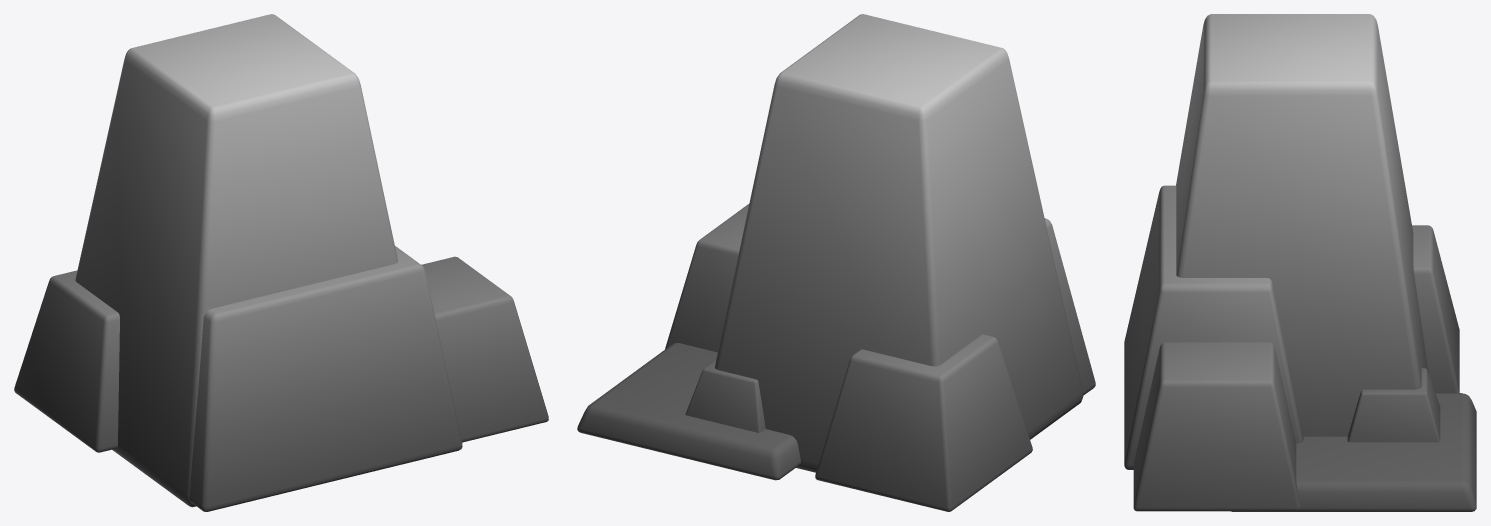
Rendered from pedras grandes.fbx.
3 renders of one model, left to right at view 1: azimuth 30°, elevation 25°; view 2: azimuth 150°, elevation 25°; view 3: azimuth 270°, elevation 25°, orthographic.
Visible parts, largest first — view 1: pedragrande; view 2: pedragrande; view 3: pedragrande.
Part boxes in pixels (x1=…): pedragrande: x1=14, y1=14, x2=548, y2=511; pedragrande: x1=577, y1=14, x2=1095, y2=511; pedragrande: x1=1124, y1=14, x2=1476, y2=511.
Bounding box in the file's own units: 669 × 631 × 555.
